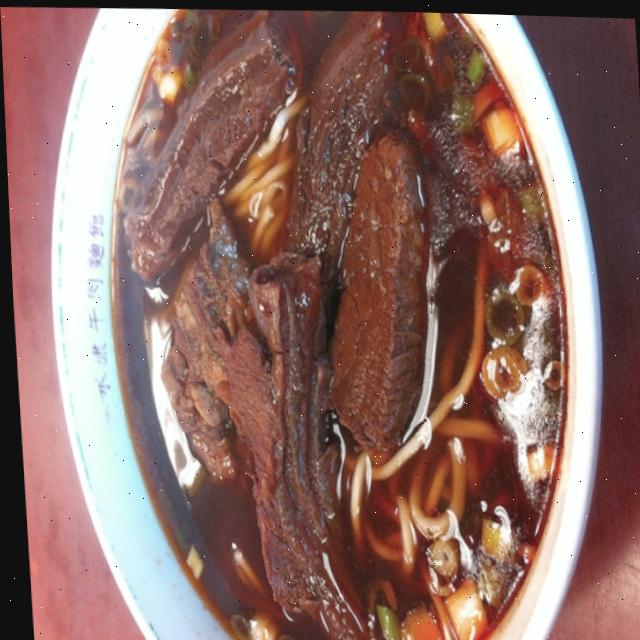面条主食: (72, 2, 591, 640)
